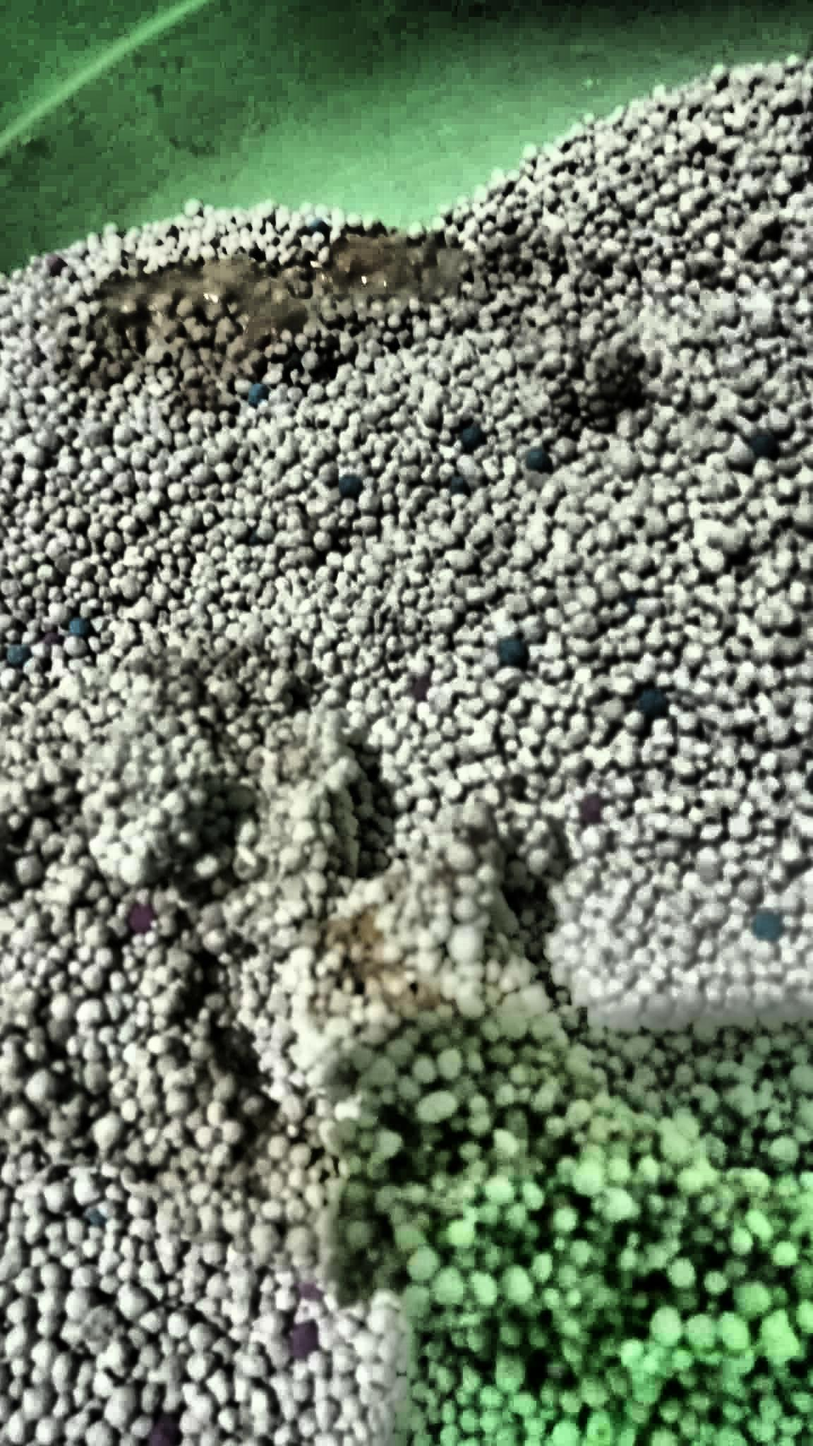poop: (0, 708, 785, 1445)
